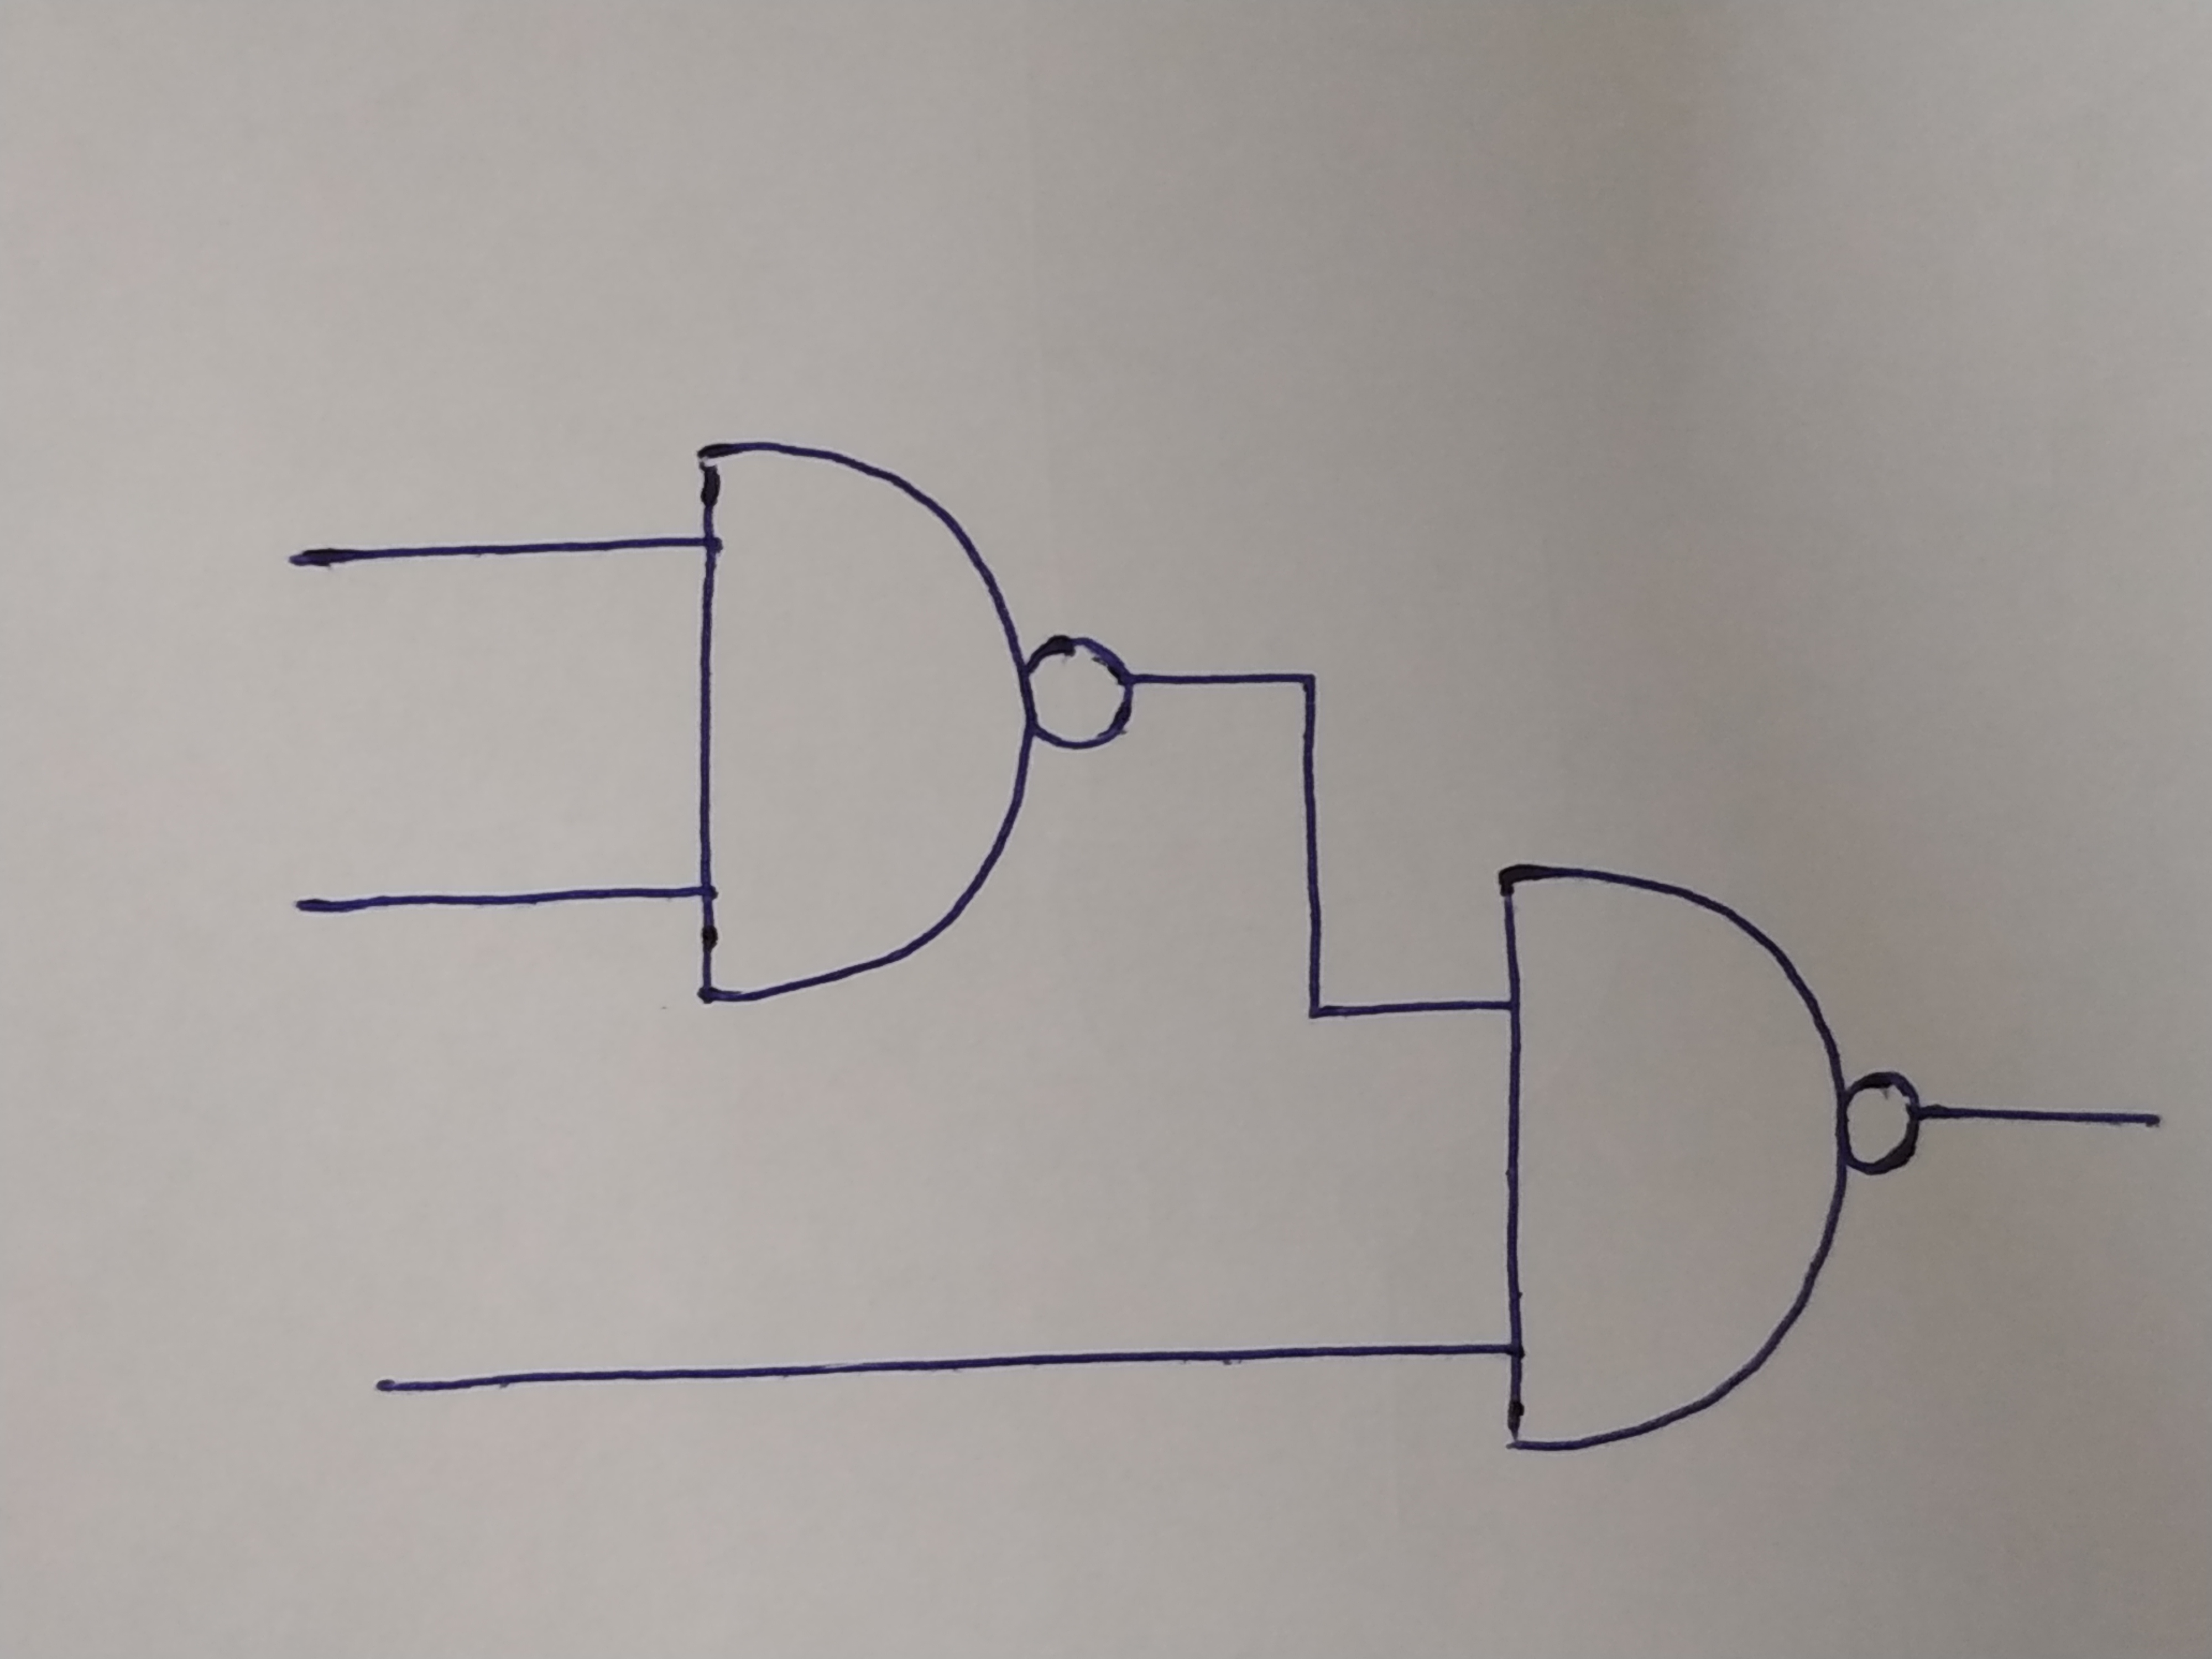and: (1494, 866, 1844, 1453), (693, 430, 1024, 1002)
not: (1029, 643, 1129, 744), (1844, 1077, 1919, 1168)
